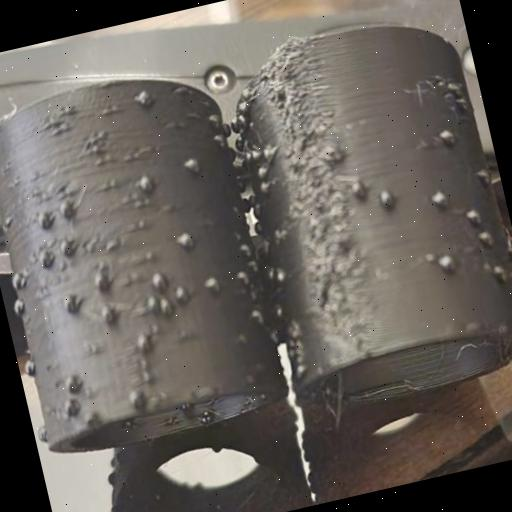blobs: (50, 189, 80, 223), (482, 257, 512, 289), (425, 181, 454, 214), (372, 184, 400, 218), (196, 269, 230, 297), (2, 265, 30, 299), (342, 169, 370, 202), (87, 264, 114, 298), (30, 242, 58, 274), (132, 166, 161, 196), (432, 118, 460, 149), (172, 224, 202, 252), (433, 246, 459, 278), (130, 82, 156, 114), (128, 329, 156, 357), (170, 279, 198, 305), (58, 370, 84, 398), (54, 390, 78, 420), (32, 207, 56, 236), (60, 289, 84, 318), (472, 224, 496, 251), (20, 352, 40, 382), (9, 292, 31, 319), (99, 304, 120, 332), (178, 149, 200, 175), (123, 382, 145, 407), (272, 261, 292, 288), (464, 203, 487, 226), (204, 107, 224, 131), (254, 164, 276, 185), (230, 268, 252, 289), (150, 268, 169, 292), (233, 239, 254, 260), (208, 130, 229, 151), (254, 178, 274, 200), (155, 296, 175, 318), (142, 294, 163, 314), (92, 125, 112, 144), (33, 424, 51, 444), (0, 210, 18, 230), (232, 94, 250, 114), (88, 138, 102, 156), (58, 104, 75, 118)
